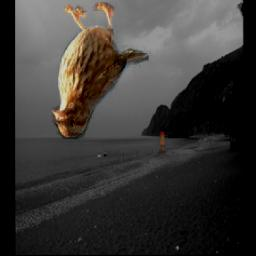Sparrow: (51, 3, 150, 140)
